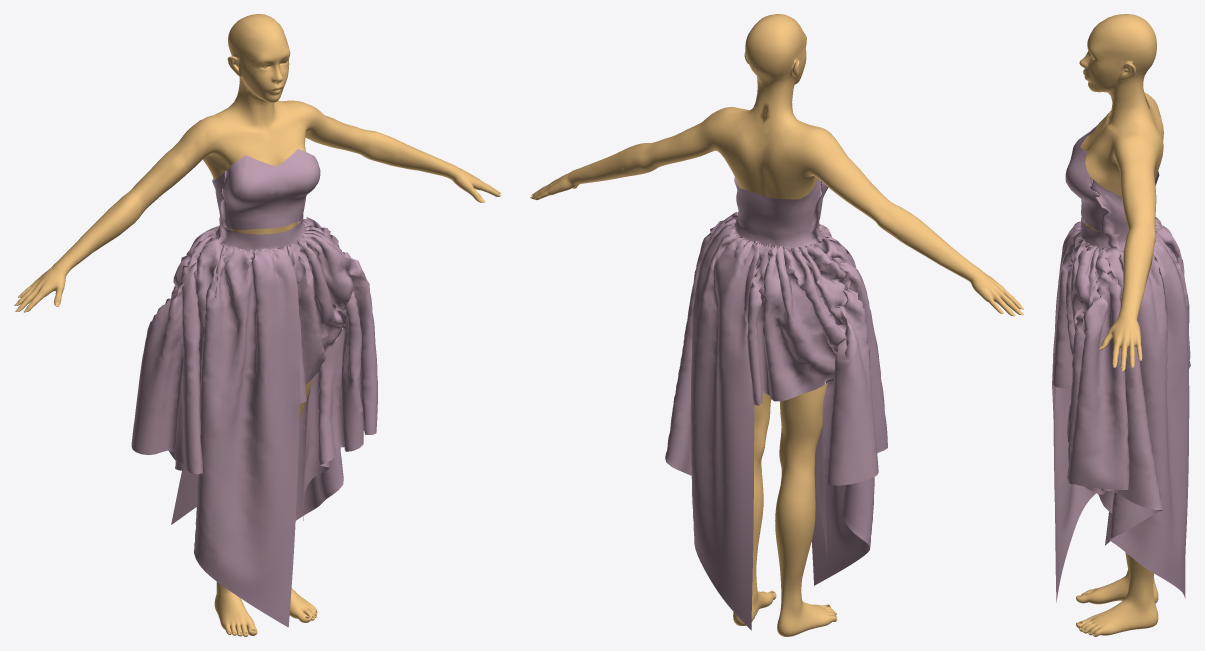
The model's file is dress8.glb.
3 renders of one model, left to right at view 1: azimuth 30°, elevation 25°; view 2: azimuth 150°, elevation 25°; view 3: azimuth 270°, elevation 25°, orthographic.
Parts seen in each view (by area): view 1: Project 1, Body; view 2: Project 1, Body; view 3: Project 1, Body.
Part boxes in pixels (x1=…): Project 1: x1=131, y1=149, x2=377, y2=627; Body: x1=16, y1=14, x2=500, y2=636; Project 1: x1=665, y1=177, x2=887, y2=630; Body: x1=531, y1=14, x2=1021, y2=636; Project 1: x1=1052, y1=126, x2=1190, y2=602; Body: x1=1076, y1=14, x2=1163, y2=636.
Bounding box in the file's own units: 1.58 × 1.85 × 0.3878.
